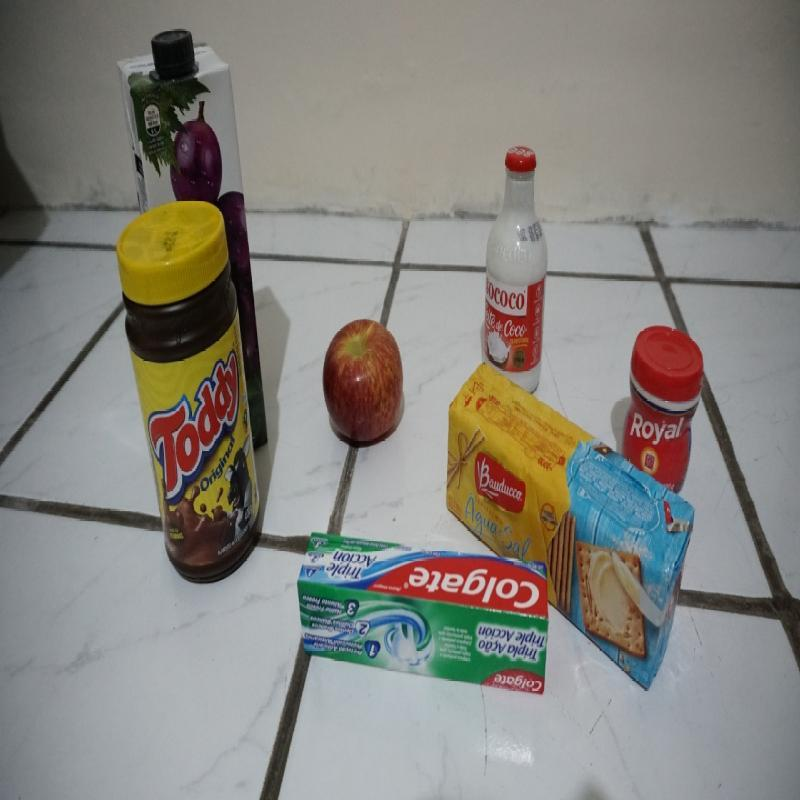Apple: (322, 316, 404, 445)
Chocolate Powder: (115, 201, 264, 603)
Coconut Milk: (484, 146, 547, 397)
Cracker: (447, 360, 695, 690)
Toothpaste: (296, 531, 551, 696)
Yeast: (619, 326, 704, 496)
